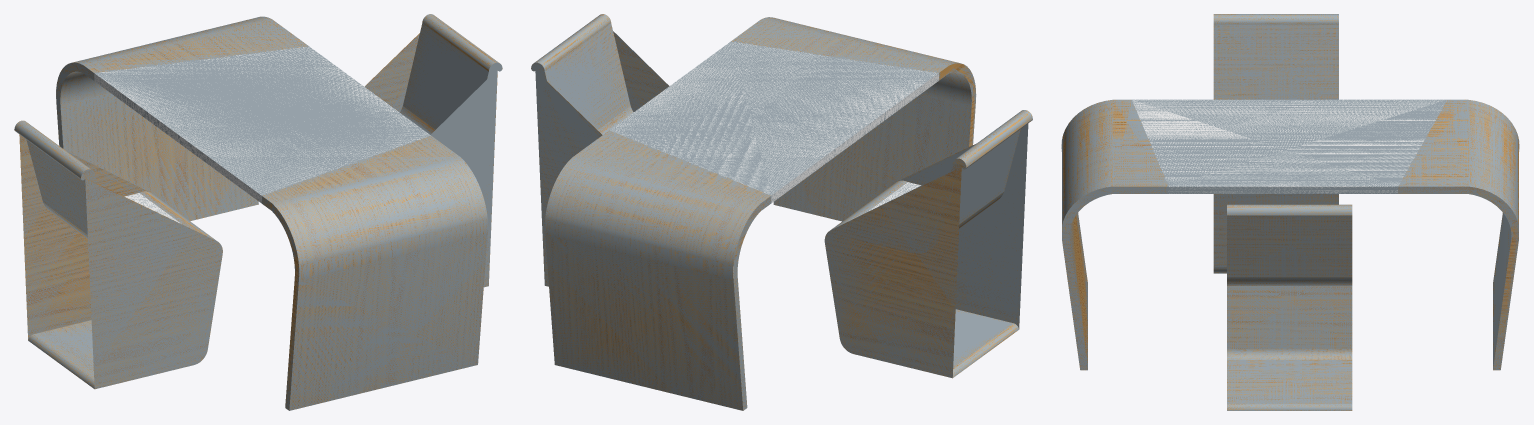
Rendered from bap.fbx.
The picture shows the model from 3 angles, left to right: view 1: azimuth 30°, elevation 25°; view 2: azimuth 150°, elevation 25°; view 3: azimuth 270°, elevation 25°; orthographic projection. The views are drawn at different scales.
Parts seen in each view (by area): view 1: Office_1_1; view 2: Office_1_1; view 3: Office_1_1.
Part boxes in pixels (left/top/right/bottom): Office_1_1: left=14, top=14, right=502, bottom=410; Office_1_1: left=531, top=14, right=1032, bottom=410; Office_1_1: left=1061, top=14, right=1519, bottom=410.
Size of the model in its own units: 65.92 by 32.55 by 64.79.
